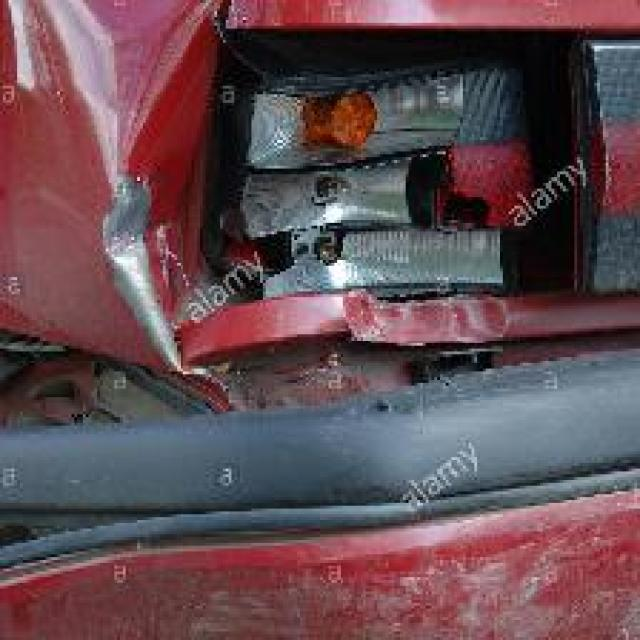head_lamp_severe: (177, 31, 583, 351)
